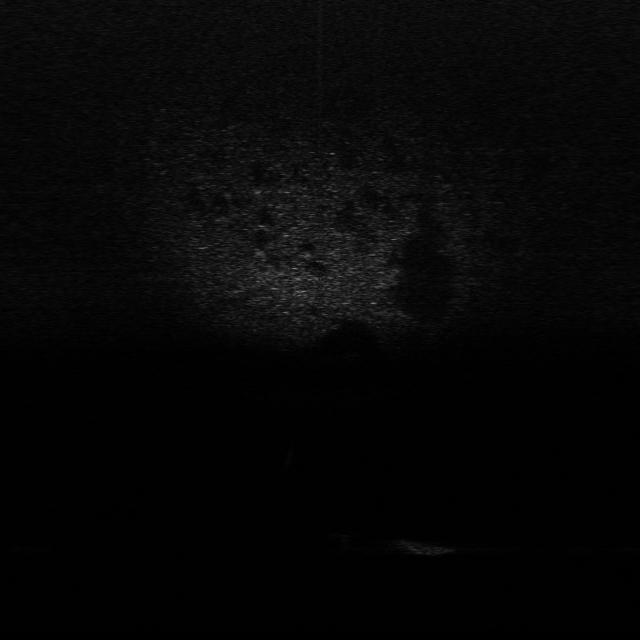metal bucket: (392, 532, 457, 556)
tyre: (331, 524, 367, 554)
